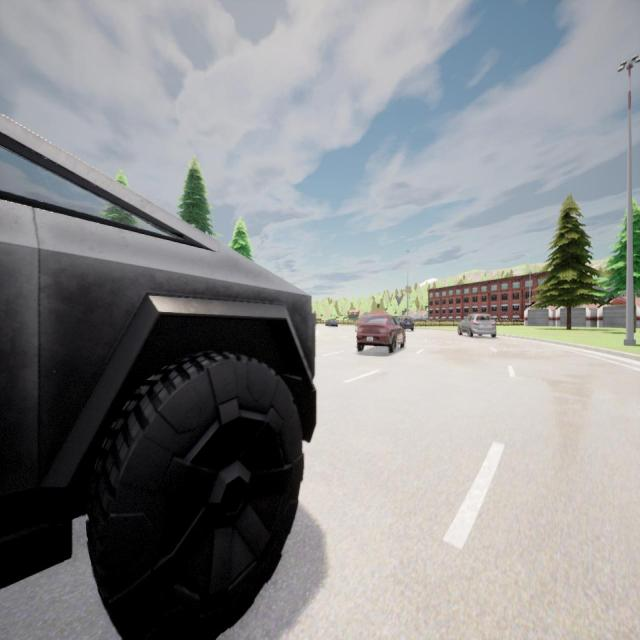Vehicle: (0, 115, 316, 637), (355, 314, 407, 352), (457, 313, 498, 338), (401, 314, 415, 332), (324, 319, 338, 328)
